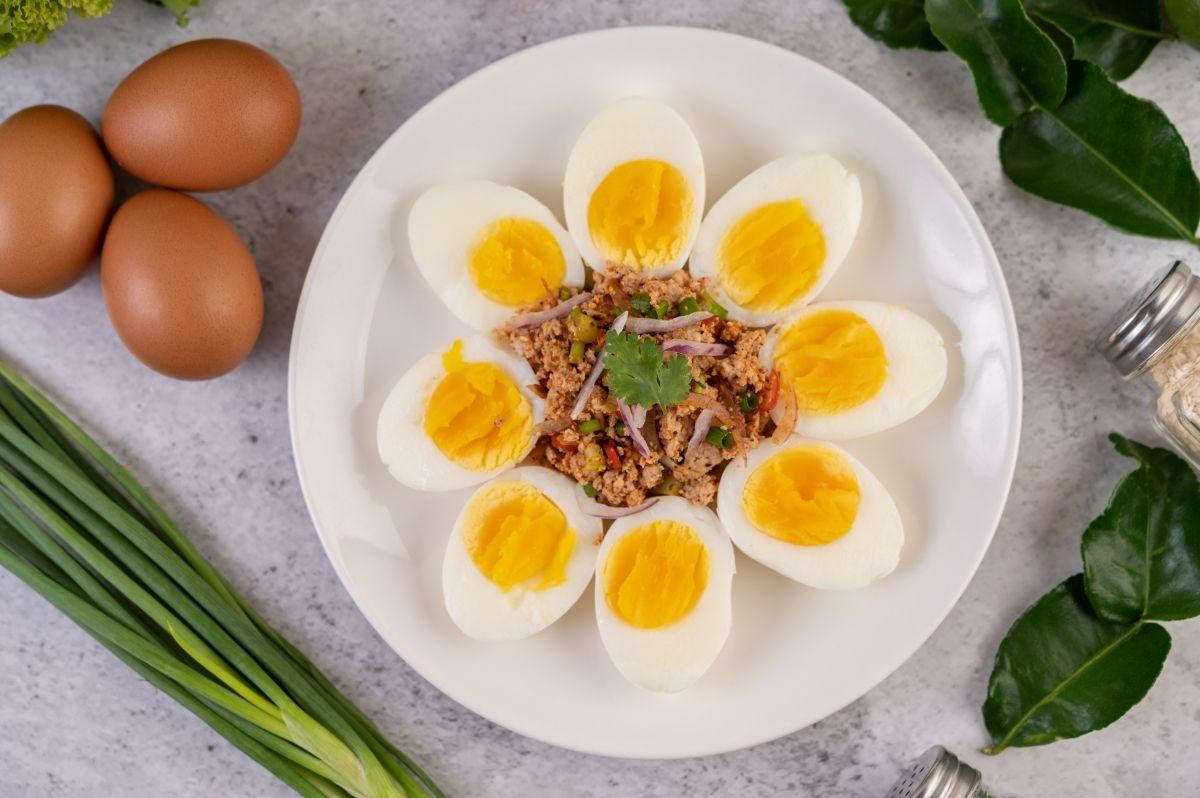buah_sayur_lainnya: (1022, 4, 1130, 172), (7, 435, 93, 573), (1049, 600, 1117, 714), (1124, 487, 1192, 593)
kacang_legume: (550, 311, 732, 472)
telur: (614, 529, 720, 658), (784, 323, 934, 412), (592, 121, 689, 252), (464, 507, 572, 622), (430, 209, 544, 311), (116, 87, 256, 170), (708, 197, 821, 295), (762, 471, 873, 570), (133, 225, 220, 343), (2, 127, 75, 265), (396, 391, 508, 477)
